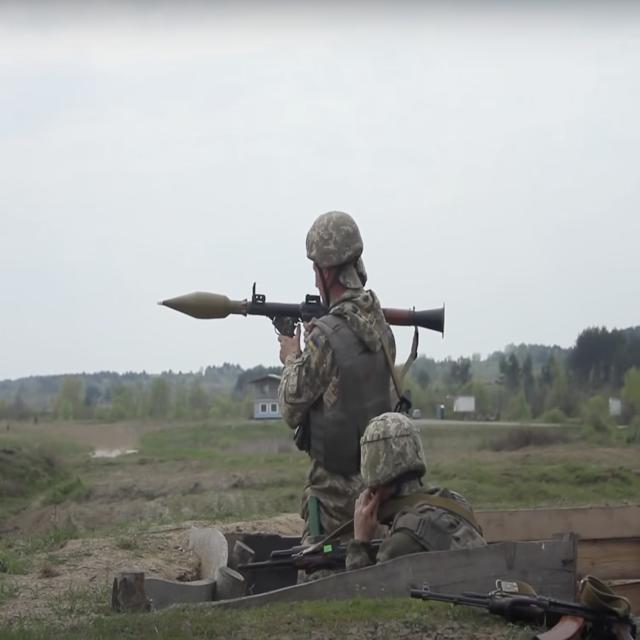bazooka: (145, 249, 488, 386)
